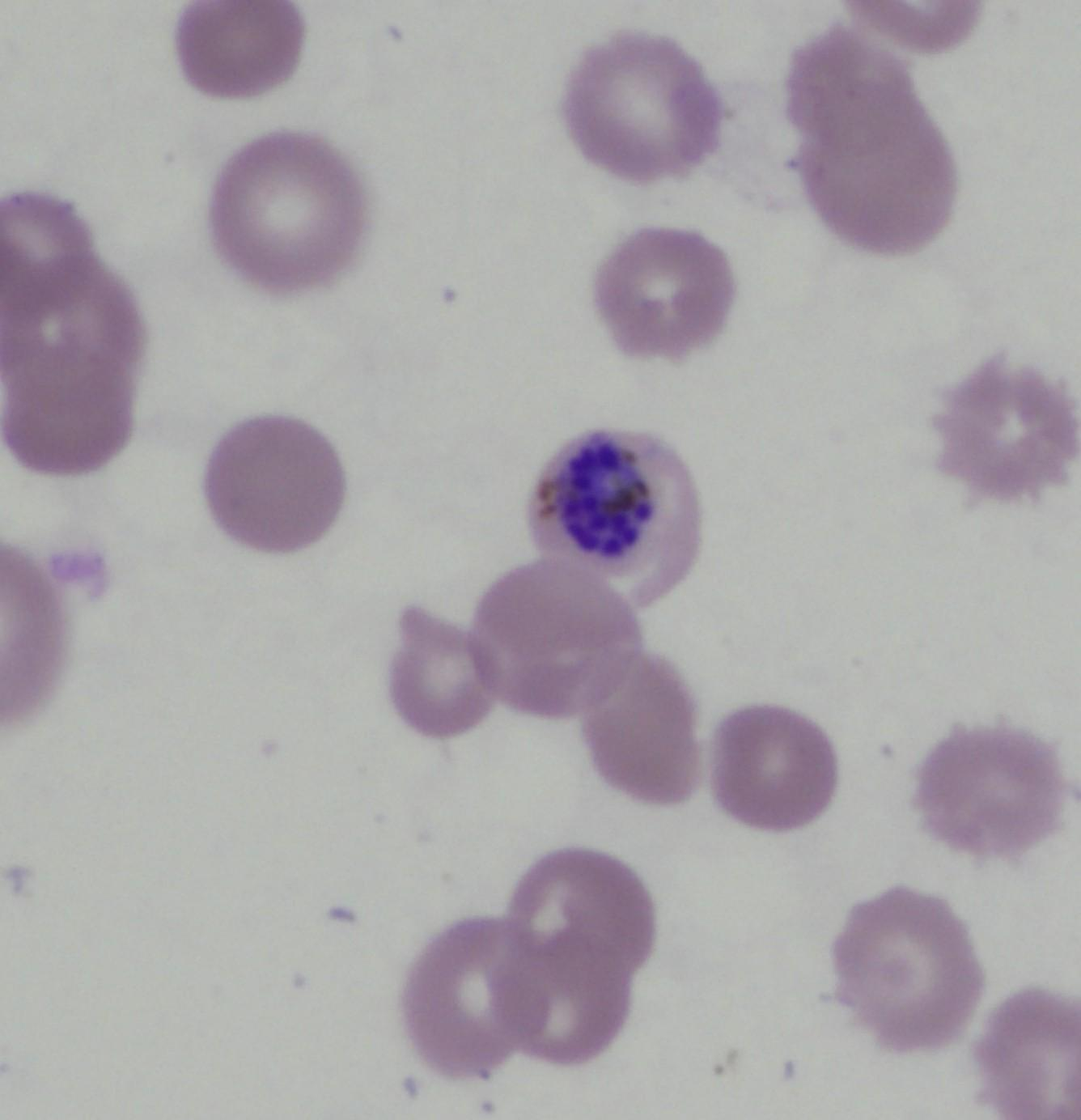Infected: (527, 426, 699, 601)
Uninfected: (2, 193, 141, 470), (793, 39, 958, 255), (206, 130, 366, 286), (472, 564, 639, 713), (830, 889, 979, 1051), (564, 34, 719, 178), (933, 356, 1077, 500), (202, 417, 345, 553), (403, 923, 528, 1076), (916, 726, 1062, 856), (595, 226, 734, 357), (712, 705, 839, 832), (585, 658, 697, 802), (514, 849, 651, 965), (389, 613, 488, 737)
